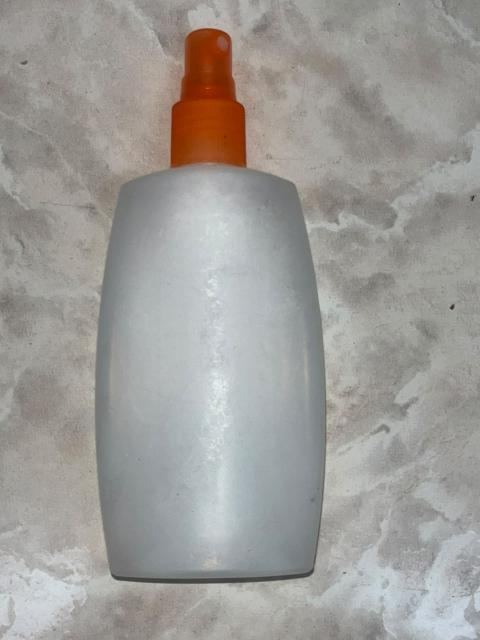HDPE: (98, 18, 338, 610)
